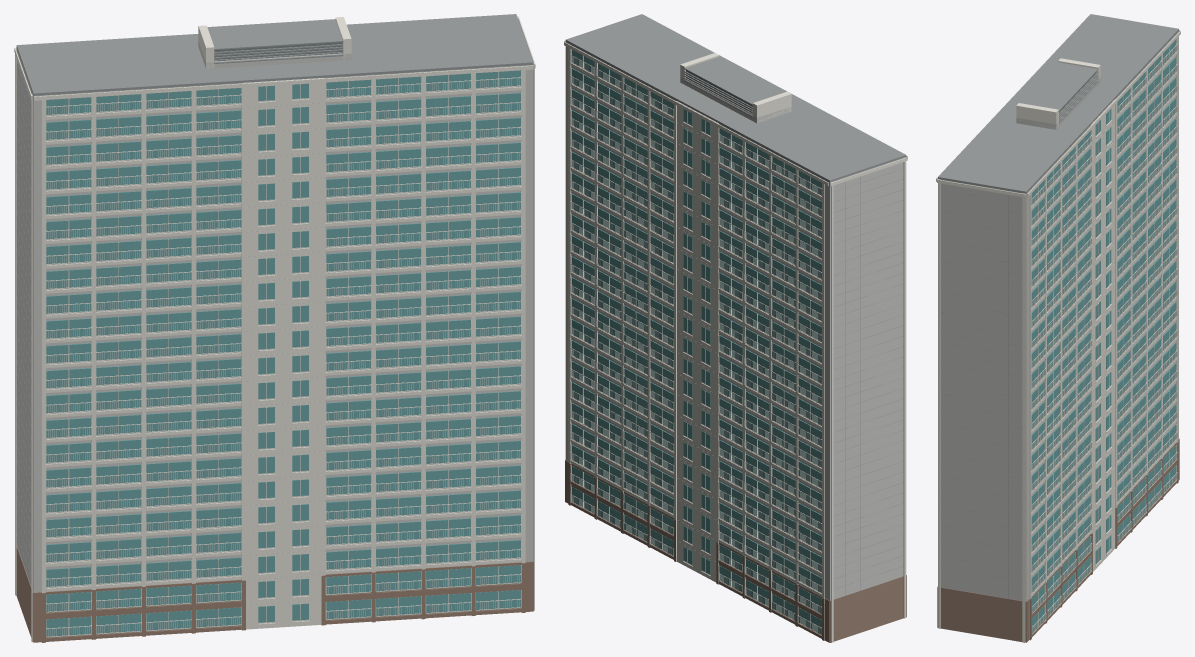
The model's file is bespoke-jamsil-els-154.glb.
3 views of the same model, side by side, from view 1: azimuth 30°, elevation 25°; view 2: azimuth 150°, elevation 25°; view 3: azimuth 270°, elevation 25° (orthographic). The views are drawn at different scales.
Visible parts, largest first — view 1: Els154_editable_Els154_turquoise_balcony_glazing, Els154_editable_Els154_light_grey_solid_wall, Els154_white_exact_chunk_4, Els154_white_exact_chunk_2, Els154_white_exact_chunk_5, Els154_white_exact_chunk_3, Els154_editable_Els154_modest_grey_flat_roof_caps, Els154_editable_Els154_muted_ground_wall, Els154_editable_Els154_narrow_charcoal_service_strips; view 2: Els154_editable_Els154_turquoise_balcony_glazing, Els154_editable_Els154_light_grey_solid_wall, Els154_white_exact_chunk_0, Els154_white_exact_chunk_2, Els154_white_exact_chunk_1, Els154_editable_Els154_modest_grey_flat_roof_caps, Els154_editable_Els154_muted_ground_wall, Els154_white_exact_chunk_5; view 3: Els154_editable_Els154_light_grey_solid_wall, Els154_editable_Els154_turquoise_balcony_glazing, Els154_editable_Els154_modest_grey_flat_roof_caps, Els154_white_exact_chunk_0, Els154_white_exact_chunk_1, Els154_white_exact_chunk_2, Els154_editable_Els154_muted_ground_wall, Els154_white_exact_chunk_5.
Boxes of the visible parts, x1=… form: Els154_editable_Els154_turquoise_balcony_glazing: x1=46, y1=70, x2=521, y2=636; Els154_editable_Els154_light_grey_solid_wall: x1=16, y1=41, x2=533, y2=604; Els154_white_exact_chunk_4: x1=42, y1=76, x2=471, y2=634; Els154_white_exact_chunk_2: x1=14, y1=47, x2=323, y2=641; Els154_white_exact_chunk_5: x1=33, y1=16, x2=535, y2=610; Els154_white_exact_chunk_3: x1=46, y1=91, x2=241, y2=634; Els154_editable_Els154_modest_grey_flat_roof_caps: x1=16, y1=14, x2=533, y2=587; Els154_editable_Els154_muted_ground_wall: x1=16, y1=545, x2=533, y2=642; Els154_editable_Els154_narrow_charcoal_service_strips: x1=214, y1=42, x2=342, y2=59; Els154_editable_Els154_turquoise_balcony_glazing: x1=571, y1=49, x2=821, y2=634; Els154_editable_Els154_light_grey_solid_wall: x1=565, y1=42, x2=906, y2=600; Els154_white_exact_chunk_0: x1=570, y1=49, x2=718, y2=582; Els154_white_exact_chunk_2: x1=564, y1=42, x2=907, y2=642; Els154_white_exact_chunk_1: x1=568, y1=44, x2=769, y2=606; Els154_editable_Els154_modest_grey_flat_roof_caps: x1=565, y1=14, x2=906, y2=595; Els154_editable_Els154_muted_ground_wall: x1=565, y1=460, x2=906, y2=642; Els154_white_exact_chunk_5: x1=564, y1=40, x2=907, y2=159; Els154_editable_Els154_light_grey_solid_wall: x1=938, y1=31, x2=1178, y2=601; Els154_editable_Els154_turquoise_balcony_glazing: x1=1031, y1=39, x2=1176, y2=632; Els154_editable_Els154_modest_grey_flat_roof_caps: x1=938, y1=14, x2=1178, y2=601; Els154_white_exact_chunk_0: x1=1031, y1=99, x2=1115, y2=633; Els154_white_exact_chunk_1: x1=1029, y1=88, x2=1146, y2=639; Els154_white_exact_chunk_2: x1=1027, y1=30, x2=1180, y2=515; Els154_editable_Els154_muted_ground_wall: x1=937, y1=438, x2=1179, y2=642; Els154_white_exact_chunk_5: x1=936, y1=16, x2=1100, y2=642.
Size of the model in its own units: 49.23 by 59.95 by 28.41.
